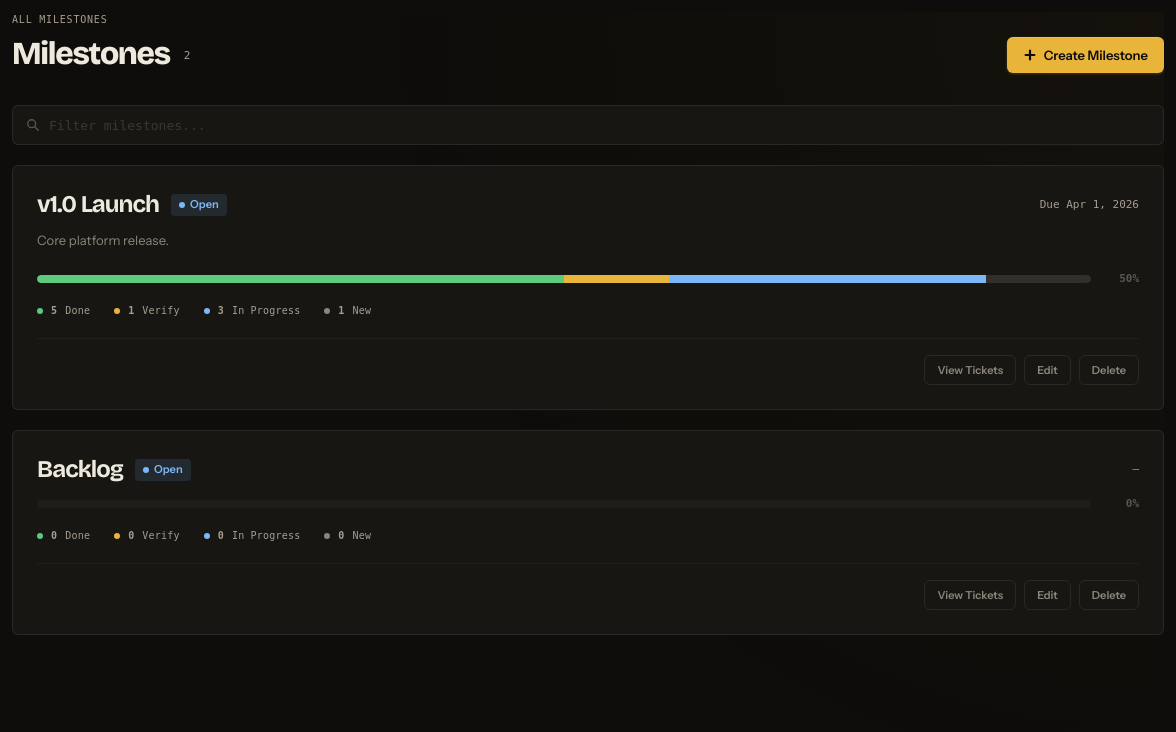
Test case: MilestoneListPage › shows empty state when no milestones match filter
This screenshot has width=1176, height=732.
Check: the text "v1.0 Launch" is shown, box [37, 190, 159, 219]
Type "zzz-no-match" into the field with placeholder "Filter milestones..." at (588, 125), box [12, 105, 1164, 145]
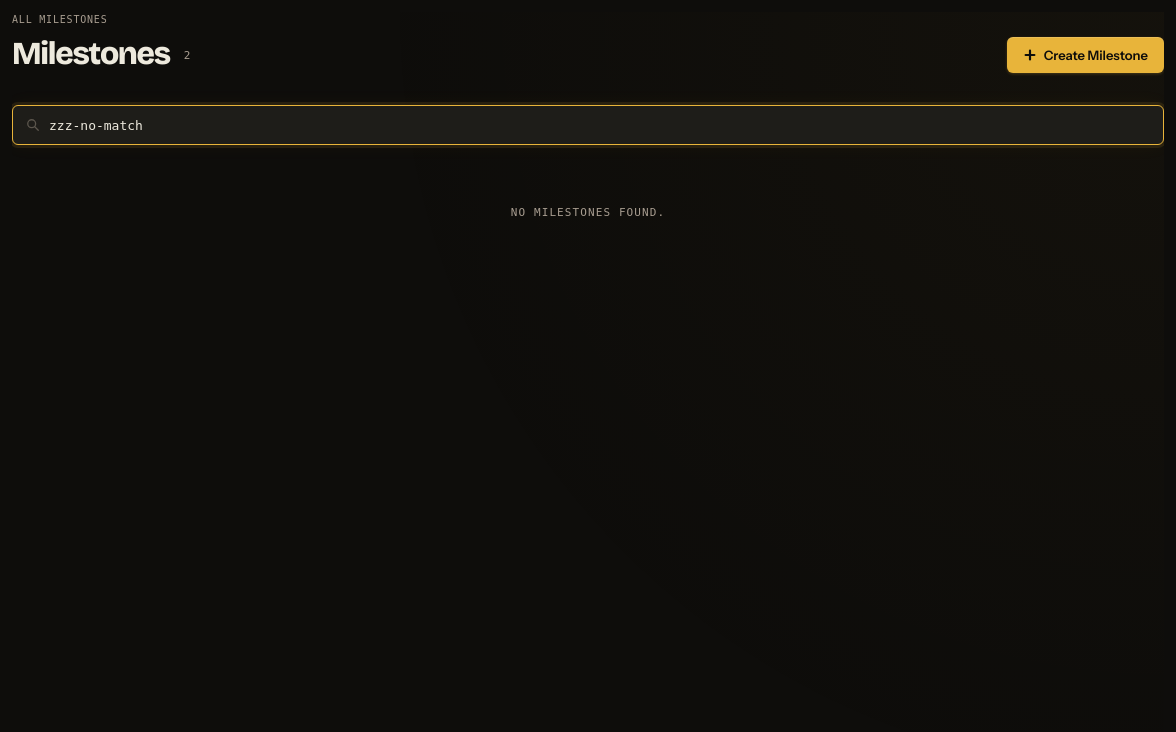
Check: the text "No milestones found." is shown, box [511, 206, 665, 219]
